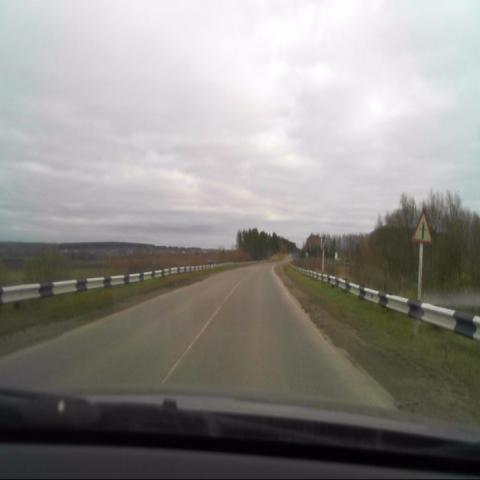2_3: (412, 209, 432, 245)
